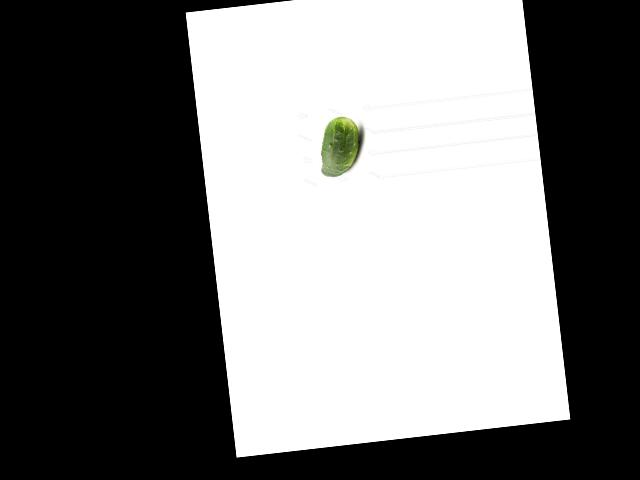cucumber: (315, 114, 363, 178)
